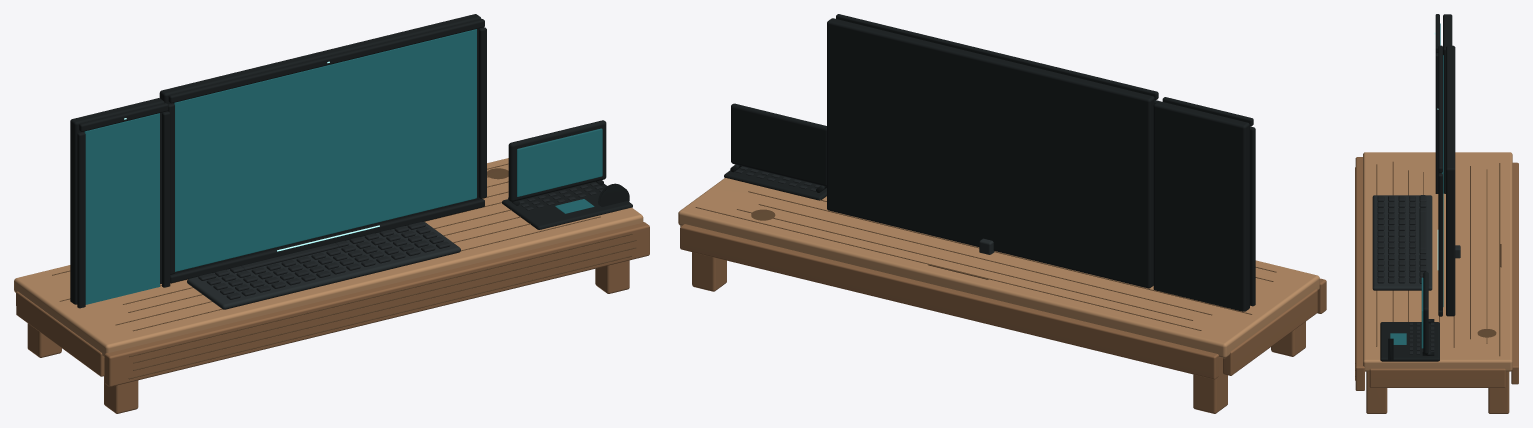
File: kraitos-open-desk.v3.glb
The picture shows the model from 3 angles, left to right: view 1: azimuth 30°, elevation 25°; view 2: azimuth 150°, elevation 25°; view 3: azimuth 270°, elevation 25°; orthographic projection. The views are drawn at different scales.
Parts seen in each view (by area): view 1: main_monitor_screen_recess, solid_wood_desktop, wood_front_apron, vertical_monitor_screen_recess, keyboard_deck, laptop_screen_recess, main_monitor_rear_shell, main_monitor_top_bezel, main_monitor_bottom_bezel, laptop_base, vertical_monitor_rear_shell, wood_left_apron (+13 smaller); view 2: main_monitor_rear_shell, solid_wood_desktop, vertical_monitor_rear_shell, wood_rear_apron, laptop_screen_frame, wood_left_apron, main_monitor_top_bezel, wood_leg_-3.86_-0.54, laptop_base, wood_leg_3.86_-0.54, vertical_monitor_left_bezel, desktop_long_grain_5 (+5 smaller); view 3: solid_wood_desktop, keyboard_deck, wood_right_apron, main_monitor_rear_shell, wood_front_apron, laptop_base, wood_rear_apron, vertical_monitor_rear_shell, main_monitor_right_bezel, wood_leg_3.86_-0.54, wood_leg_3.86_-2.62, main_monitor_top_bezel (+11 smaller).
Boxes of the visible parts, <box> form: main_monitor_screen_recess: <box>174,29,476,271</box>; solid_wood_desktop: <box>14,158,643,357</box>; wood_front_apron: <box>104,222,649,386</box>; vertical_monitor_screen_recess: <box>84,113,159,304</box>; keyboard_deck: <box>187,221,460,309</box>; laptop_screen_recess: <box>517,128,602,196</box>; main_monitor_rear_shell: <box>159,14,481,273</box>; main_monitor_top_bezel: <box>168,19,484,103</box>; main_monitor_bottom_bezel: <box>170,199,484,283</box>; laptop_base: <box>502,181,632,229</box>; vertical_monitor_rear_shell: <box>70,98,164,304</box>; wood_left_apron: <box>16,291,104,376</box>; main_monitor_rear_shell: <box>827,18,1154,288</box>; solid_wood_desktop: <box>678,178,1319,358</box>; vertical_monitor_rear_shell: <box>1153,101,1249,311</box>; wood_rear_apron: <box>680,224,1218,379</box>; laptop_screen_frame: <box>731,103,826,186</box>; wood_left_apron: <box>1223,289,1317,375</box>; main_monitor_top_bezel: <box>836,14,1158,99</box>; wood_leg_-3.86_-0.54: <box>1193,357,1227,413</box>; laptop_base: <box>724,166,826,200</box>; wood_leg_3.86_-0.54: <box>692,252,726,291</box>; vertical_monitor_left_bezel: <box>1250,126,1255,306</box>; desktop_long_grain_5: <box>748,191,1252,314</box>; solid_wood_desktop: <box>1363,152,1512,371</box>; keyboard_deck: <box>1372,195,1432,290</box>; wood_right_apron: <box>1369,368,1505,387</box>; main_monitor_rear_shell: <box>1446,45,1455,316</box>; wood_front_apron: <box>1355,157,1364,390</box>; laptop_base: <box>1380,322,1439,361</box>; wood_rear_apron: <box>1511,162,1518,384</box>; vertical_monitor_rear_shell: <box>1443,14,1452,193</box>; main_monitor_right_bezel: <box>1438,173,1442,310</box>; wood_leg_3.86_-0.54: <box>1488,371,1509,413</box>; wood_leg_3.86_-2.62: <box>1366,371,1387,413</box>; main_monitor_top_bezel: <box>1438,45,1442,172</box>.
Size of what is drawn, in the model's own units: 8.5 by 3.91 by 2.8.
